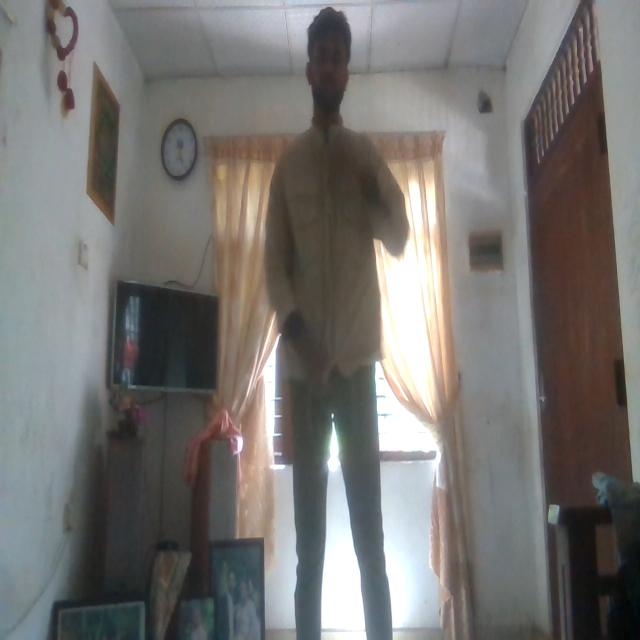Jacket_Wearer: (261, 119, 415, 406)
Person: (258, 13, 411, 640)
